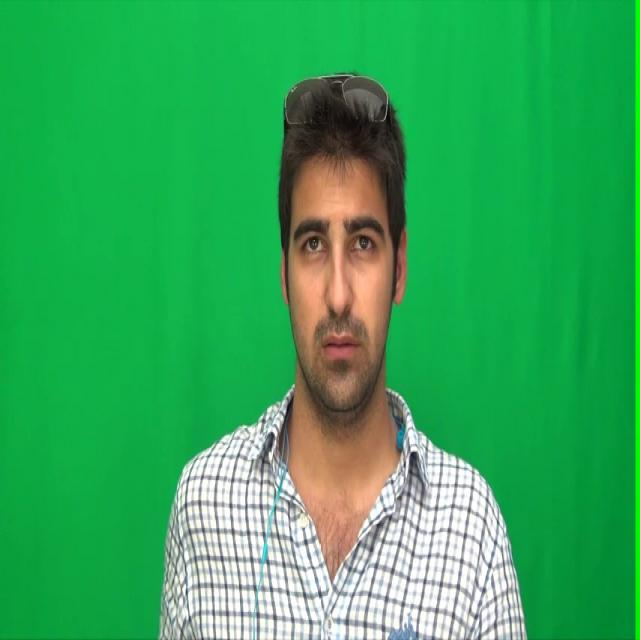Engaged: (290, 157, 393, 403)
